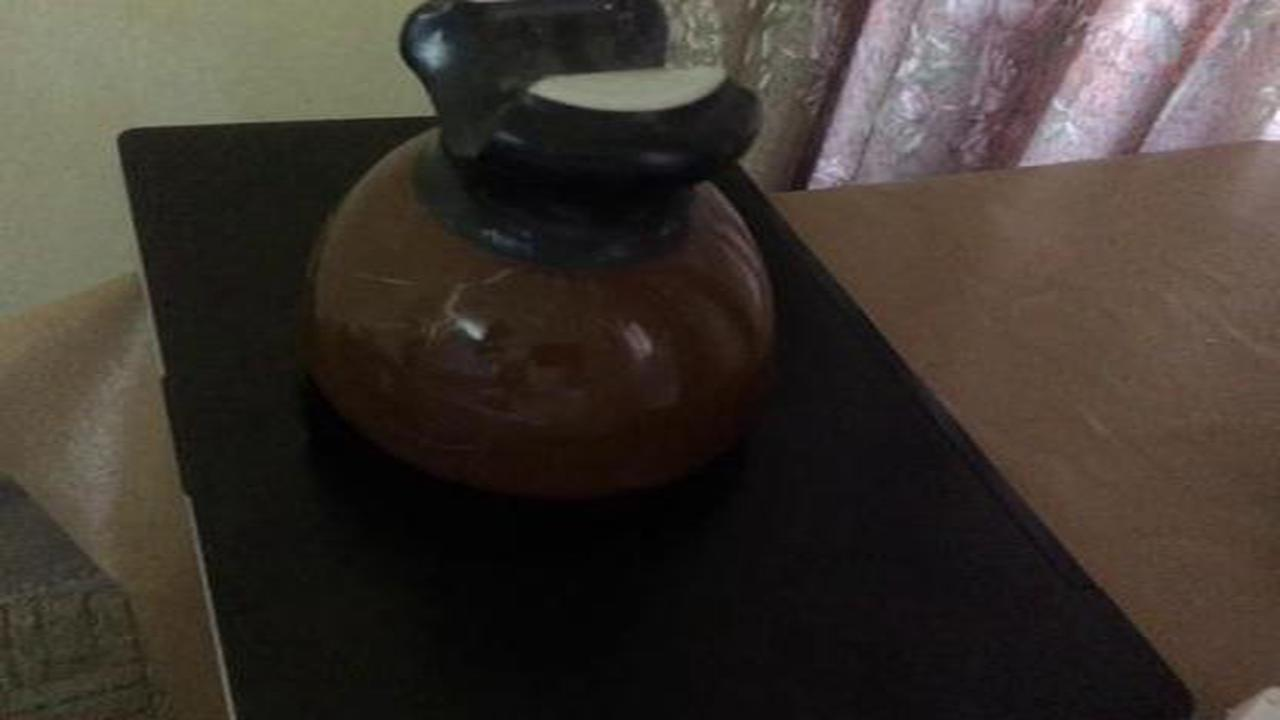insulator_pin: (293, 4, 804, 513)
